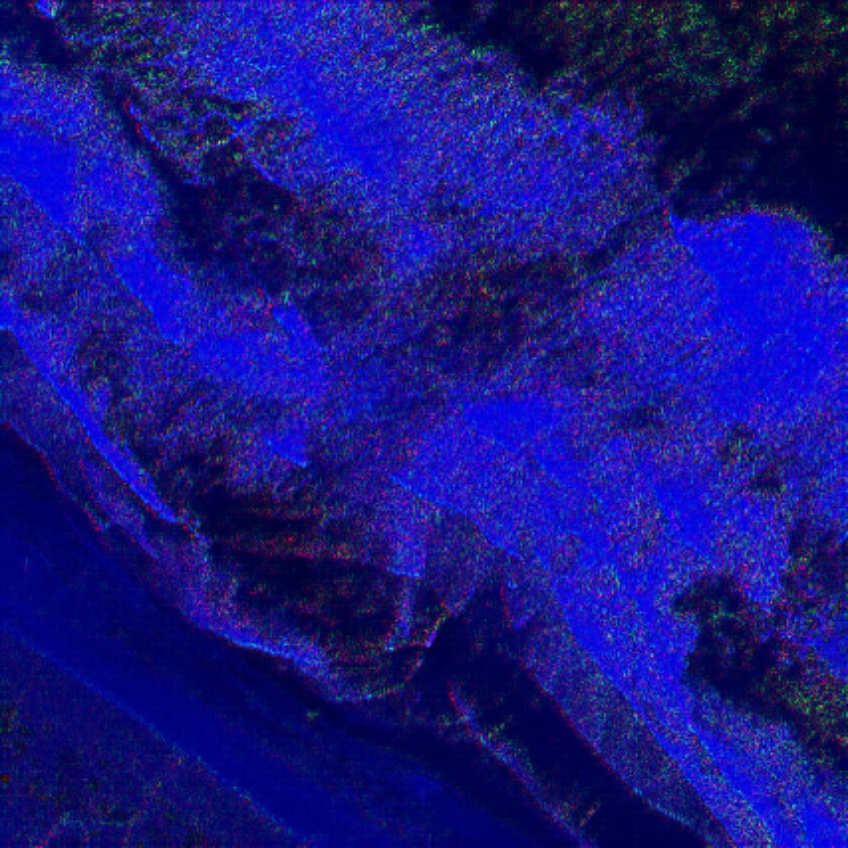rip_current: (202, 176, 685, 563)
